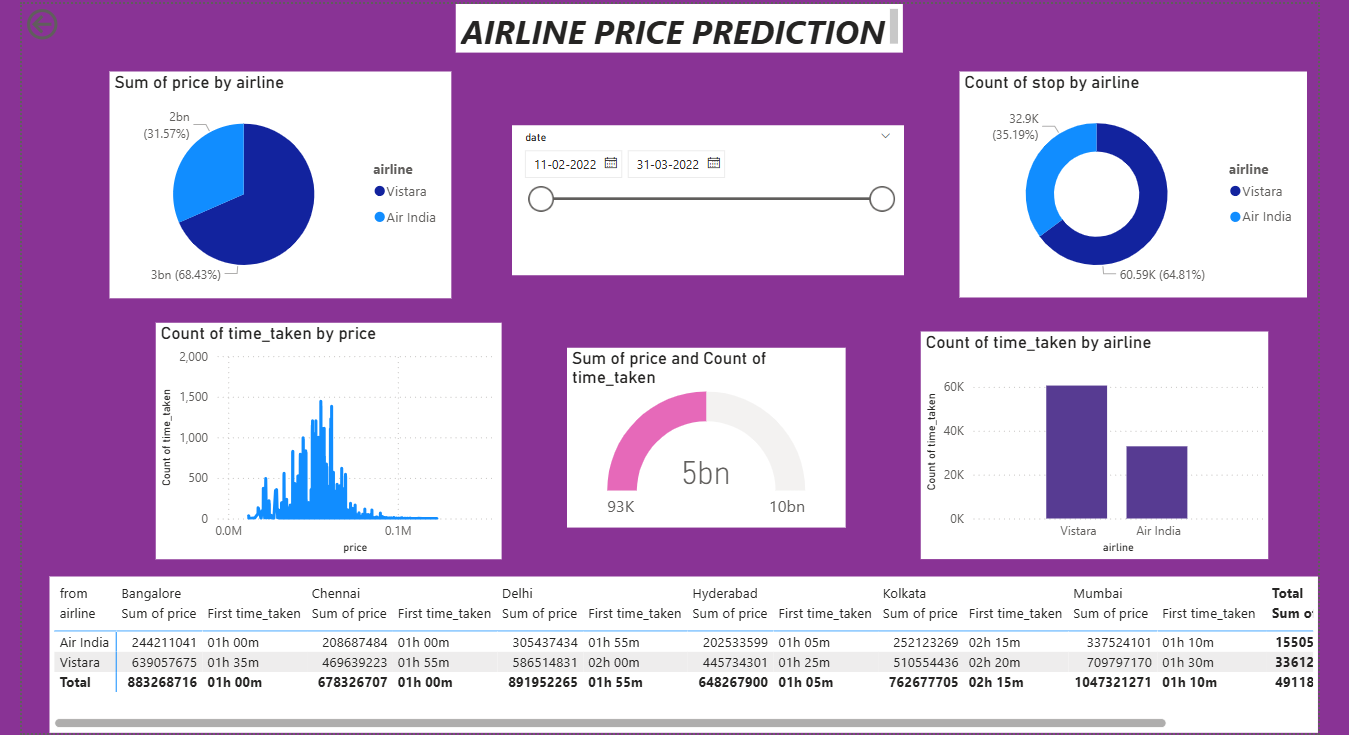

This screenshot's page, from the dashboard's own definition file:
{"tool":"powerbi","page":{"name":"Page 1","canvas":[1280,720],"ordinal":0},"visuals":[{"type":"lineChart","fields":{"Category":["business.price"],"Y":["CountNonNull(business.time_taken)"]},"box":[232.9,301.6,383.7,228.9],"z":0},{"type":"pieChart","fields":{"Category":["business.airline"],"Y":["Sum(business.price)"]},"box":[86.8,67.3,337.5,223.8],"z":1},{"type":"pivotTable","fields":{"Rows":["business.airline"],"Columns":["business.from","business.to"],"Values":["Sum(business.price)","Min(business.time_taken)"]},"box":[0,572.3,1280.3,133.3],"z":2},{"type":"actionButton","box":[0,0,100,40],"z":3},{"type":"slicer","fields":{"Values":["business.date"]},"box":[473.2,102.7,386.4,146.7],"z":4},{"type":"donutChart","fields":{"Category":["business.airline"],"Y":["CountNonNull(business.stop)"]},"box":[926.9,81.9,331.4,209.1],"z":5},{"type":"clusteredColumnChart","fields":{"Category":["business.airline"],"Y":["CountNonNull(business.time_taken)"]},"box":[649.3,302,380.3,228.7],"z":6},{"type":"textbox","box":[428.4,0,442,48.1],"z":7}]}

Visuals, with their boxes on the page's 1280x720 design canvas (x1, y1, x2, y2). These are canvas units, not pixel positions in the 1349x735 screenshot, which may show the page scaled, cropped or inside an application window:
lineChart - business.price x CountNonNull(business.time_taken): l=233, t=302, r=617, b=530
pieChart - business.airline x Sum(business.price): l=87, t=67, r=424, b=291
pivotTable - business.airline x business.from: l=0, t=572, r=1280, b=706
actionButton: l=0, t=0, r=100, b=40
slicer - business.date: l=473, t=103, r=860, b=249
donutChart - business.airline x CountNonNull(business.stop): l=927, t=82, r=1258, b=291
clusteredColumnChart - business.airline x CountNonNull(business.time_taken): l=649, t=302, r=1030, b=531
textbox: l=428, t=0, r=870, b=48
